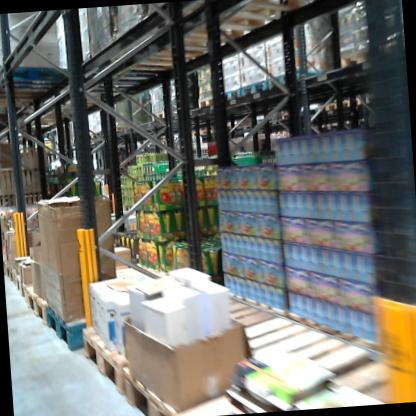pallet: (117, 351, 225, 416), (75, 319, 144, 404), (45, 303, 98, 357), (0, 59, 67, 98), (266, 62, 327, 95), (332, 43, 384, 80), (360, 86, 401, 119), (26, 287, 54, 326), (322, 92, 356, 118), (194, 88, 221, 116), (238, 77, 265, 101), (14, 274, 39, 299), (277, 102, 302, 124), (298, 101, 324, 119), (146, 104, 166, 124), (222, 86, 241, 105), (164, 104, 183, 121), (5, 261, 18, 284), (201, 128, 219, 139), (191, 128, 203, 137)
